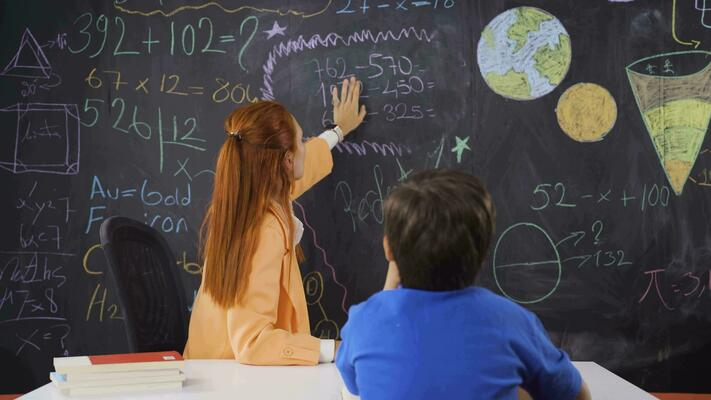pointing_gesture: (327, 74, 380, 133)
